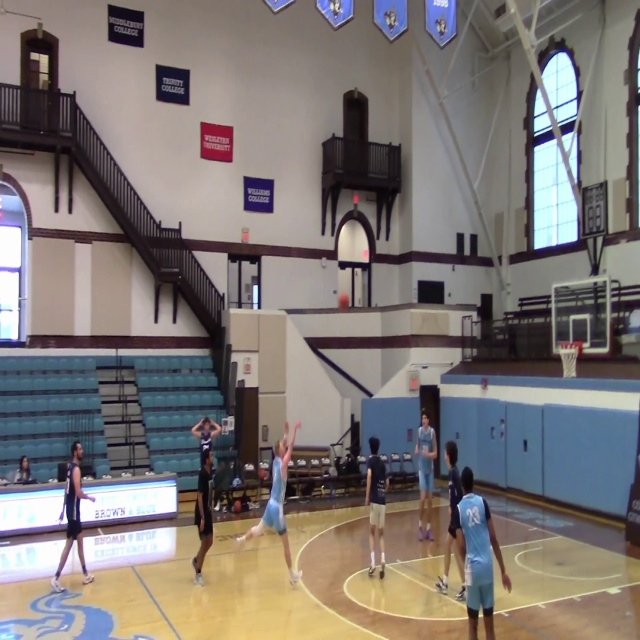Basketball: (339, 294, 349, 309), (233, 500, 241, 513)
